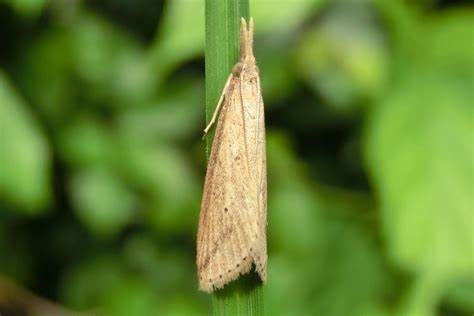Crambidae: (196, 5, 272, 297)
